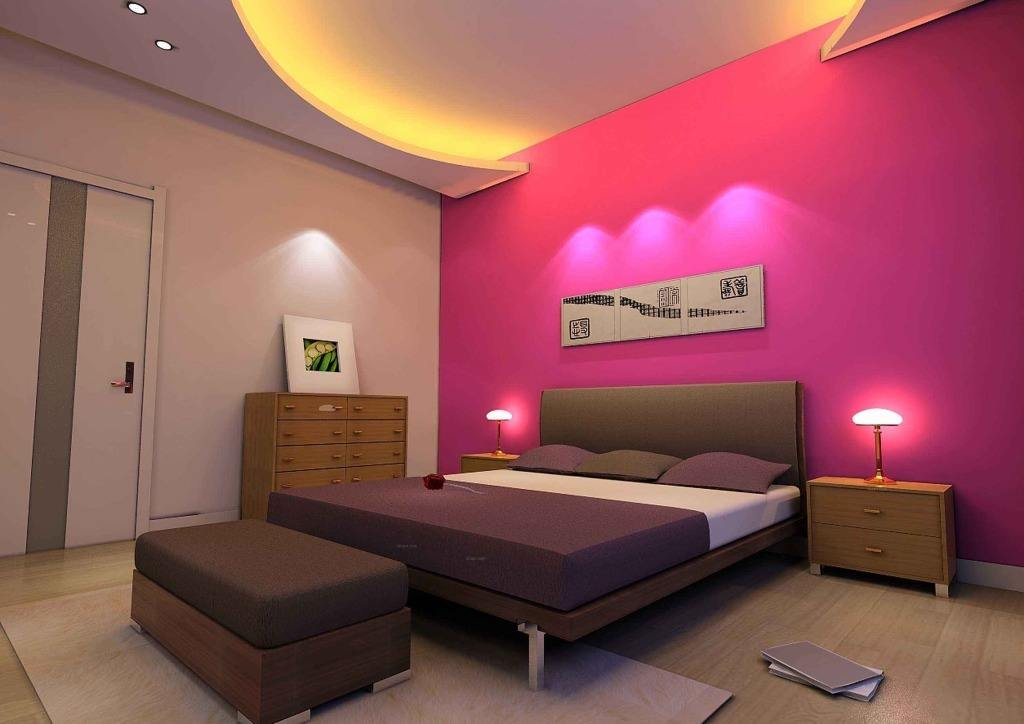床: (274, 465, 787, 654)
枕头: (494, 443, 782, 492)
灯: (847, 400, 902, 488), (481, 403, 518, 458), (145, 37, 177, 57)
